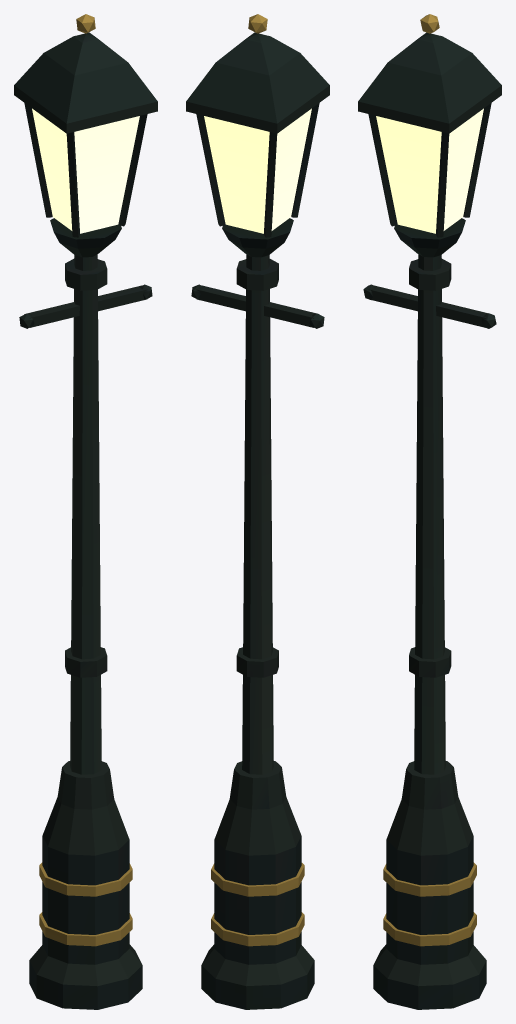
Rendered from ld_lamp-kJzacZBs.glb.
3 views of the same model, side by side, from view 1: azimuth 30°, elevation 25°; view 2: azimuth 150°, elevation 25°; view 3: azimuth 330°, elevation 25° (orthographic).
Size of the model in its own units: 0.6915 by 4.9 by 0.4947.
